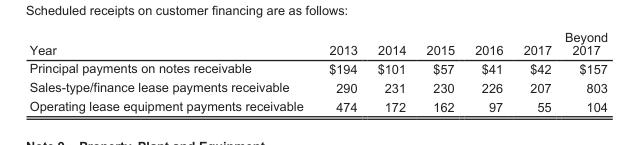table: (28, 29, 607, 113)
table column: (28, 29, 315, 113), (315, 29, 366, 113), (557, 29, 607, 113), (366, 29, 415, 113), (415, 29, 464, 113), (464, 29, 512, 113), (512, 29, 557, 113)
table column header: (28, 29, 607, 58)
table row: (28, 29, 607, 58), (28, 58, 607, 77), (28, 77, 607, 96), (28, 96, 607, 113)
